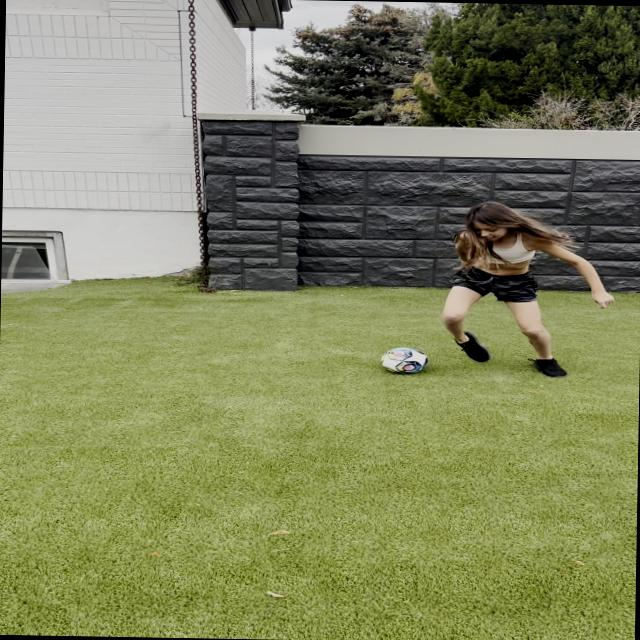Soccer Ball: (380, 346, 429, 375)
